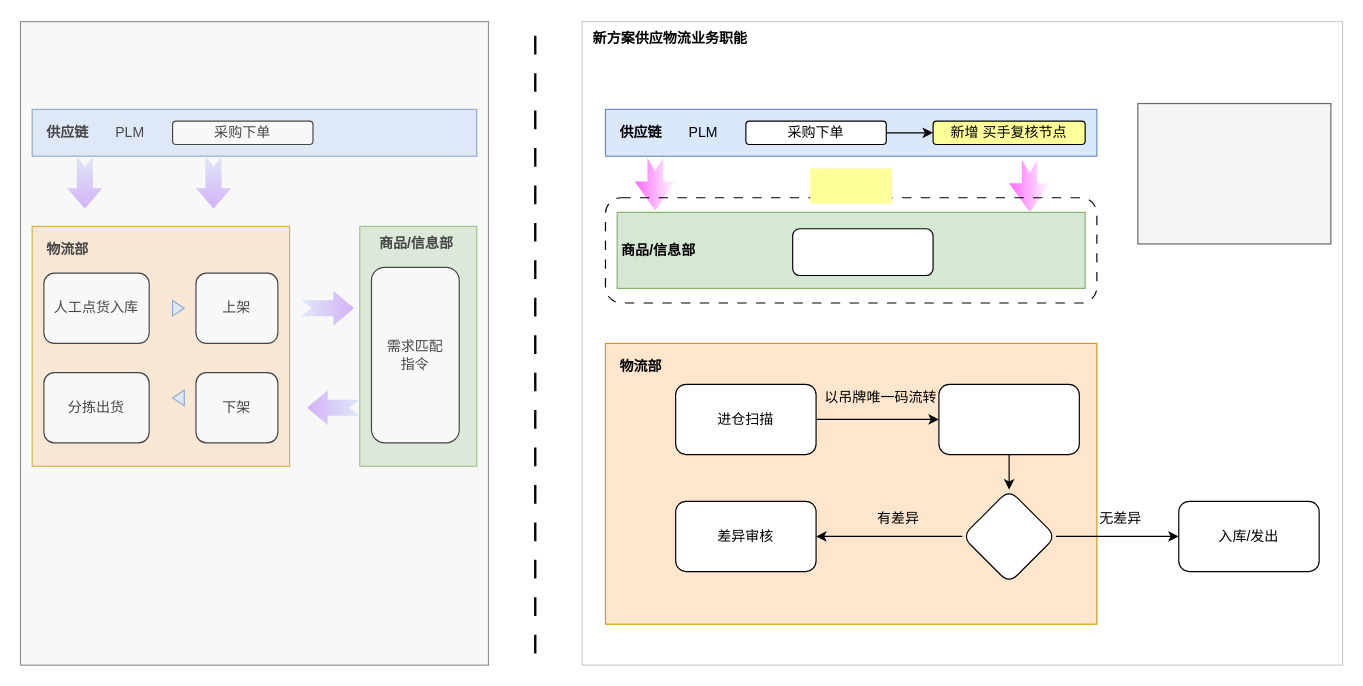
Image size: 1363x686. Some labels were removed from this diagram. The shapes that lost their labels are listed below. From the top down, each one's centre as x and y in pixels, then its label:
(851,185): 需求前置
(1234,173): 决策点 1. 需求匹配的规则； 2. 来货不一致的处理规则；
(862,252): 需求匹配指令
(253,342): 原始供应-物流业务职能
(1008,419): 订单核销
(1008,535): 是否存在差异
